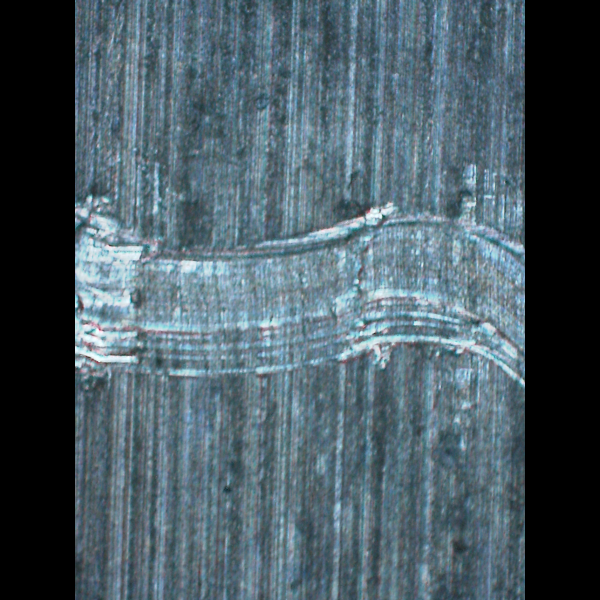d: (75, 179, 523, 405)
